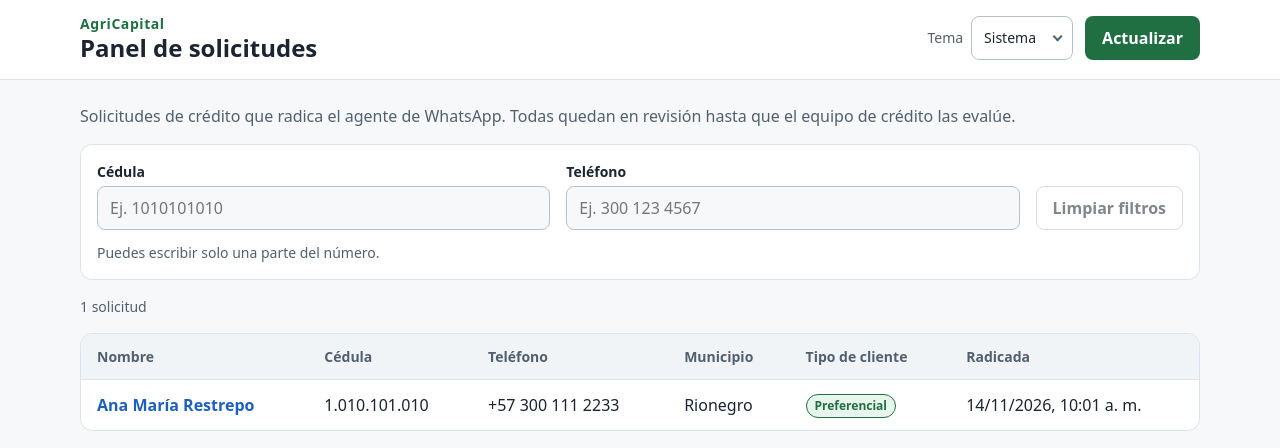
Test: Panel de solicitudes › "Limpiar filtros" borra la búsqueda y vuelve a la lista completa
expect the table is shown: met, box x1=81 y1=334 x2=1199 y2=430
expect the button "Limpiar filtros" is disabled: met, box x1=1036 y1=186 x2=1183 y2=230
In the search field labelled "Cédula": (324, 208) x1=97 y1=186 x2=550 y2=230, type "1010"
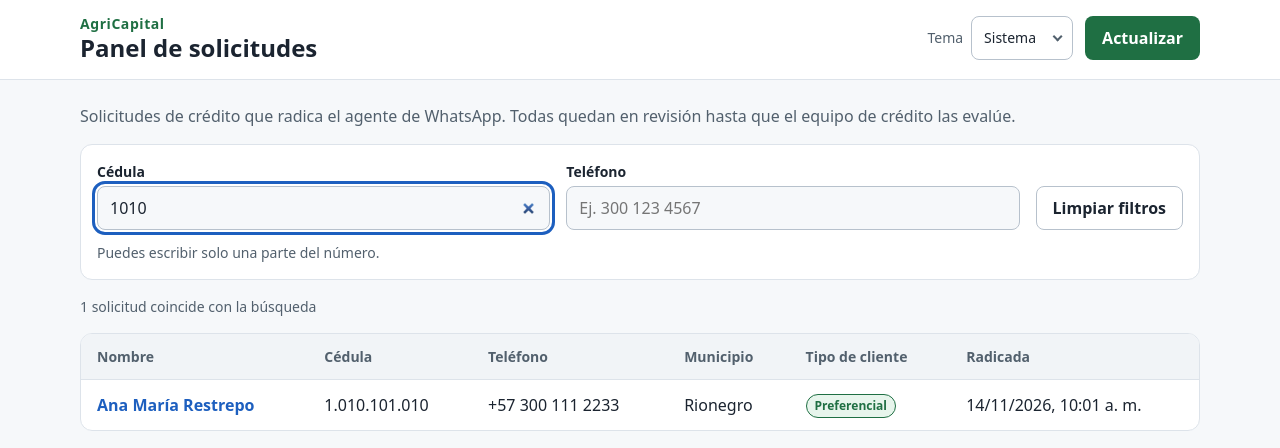
Click the button "Limpiar filtros": (1109, 208) x1=1036 y1=186 x2=1183 y2=230
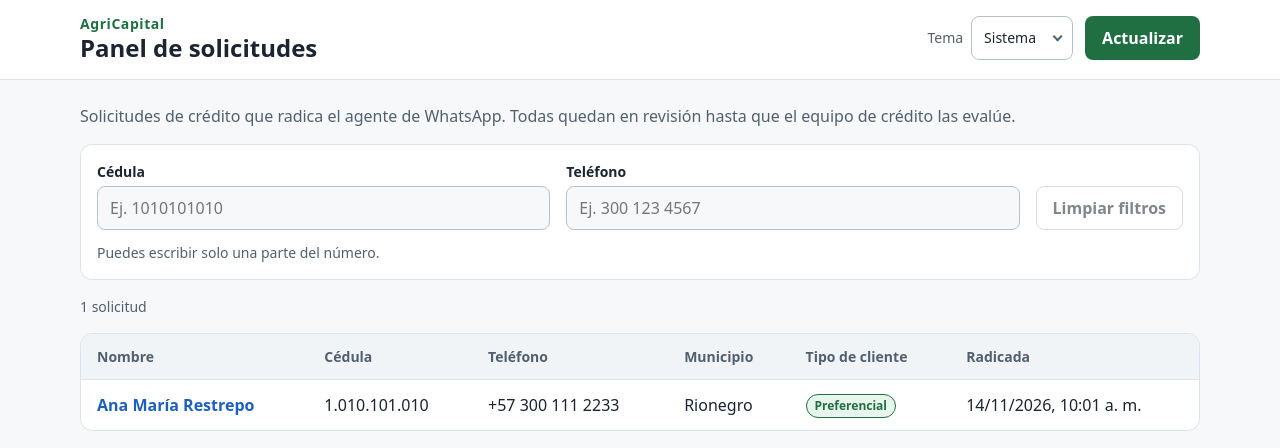
expect the search field labelled "Cédula" is empty: met, box x1=97 y1=186 x2=550 y2=230
